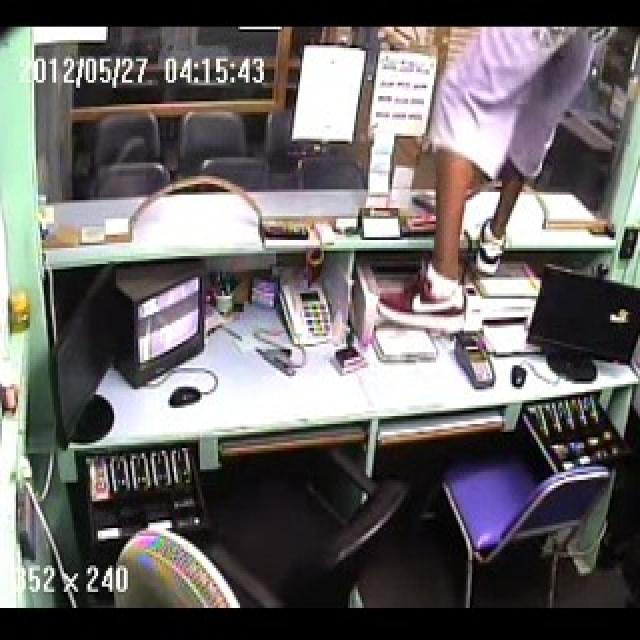thief: (415, 11, 591, 342)
